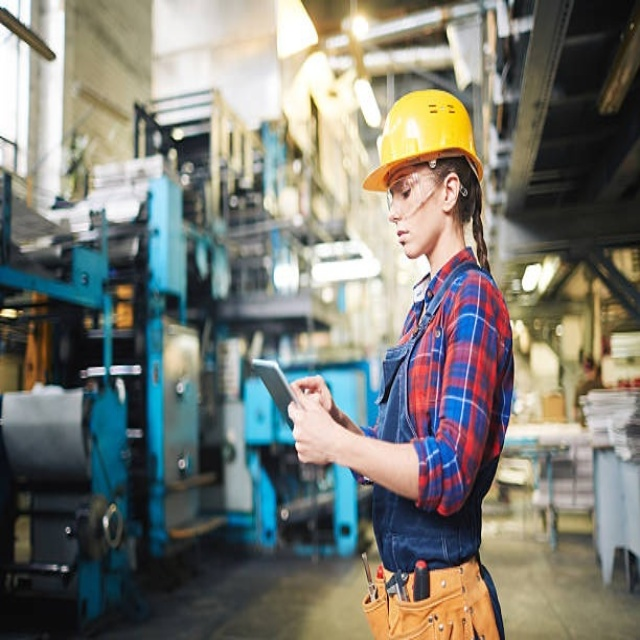Gafas: (385, 166, 450, 223)
Sin_guantes: (288, 370, 342, 467)
Sin_mascara: (392, 223, 419, 256)
